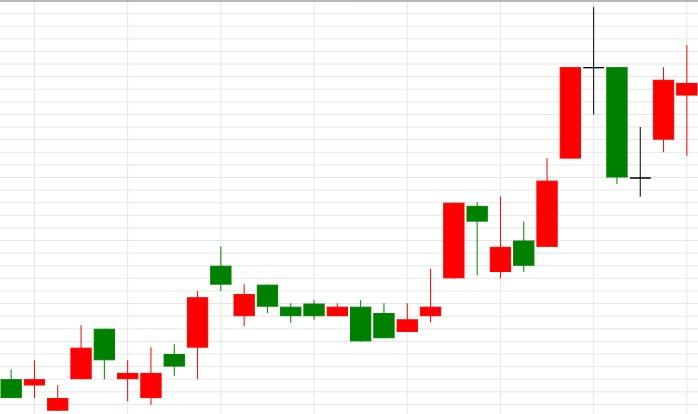evening_star_fall: (490, 7, 628, 279)
